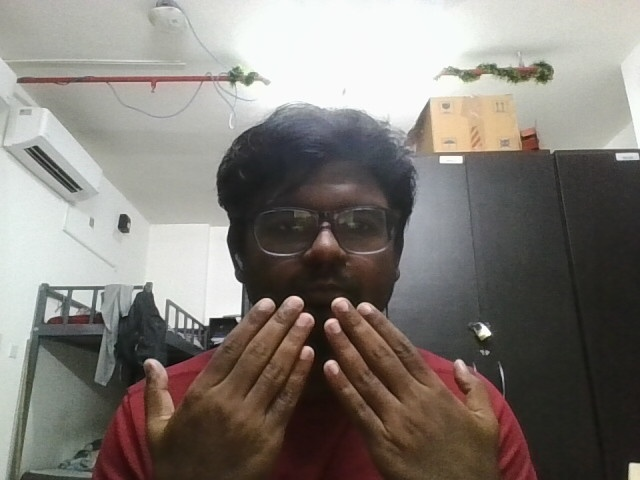Thanks: (133, 285, 521, 480)
